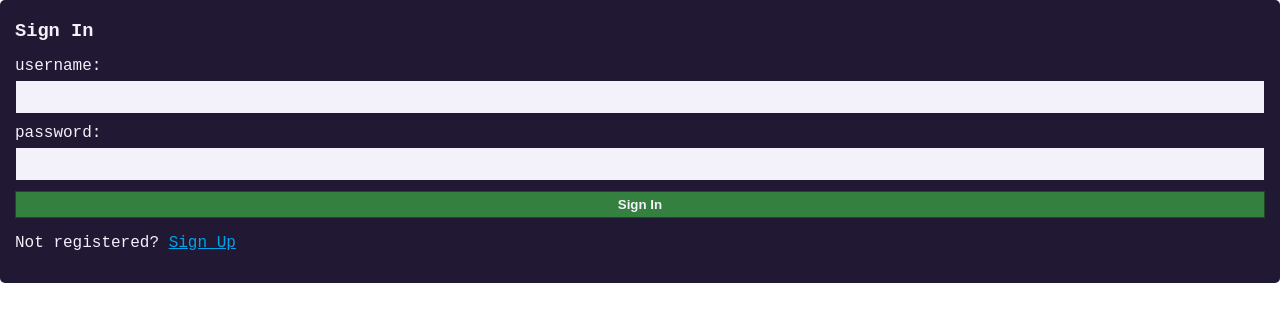
SignInForm › SignInForm renders show error message
This screenshot has width=1280, height=329.
Click the button "Sign In".
click(640, 204)  # box [15, 191, 1265, 218]
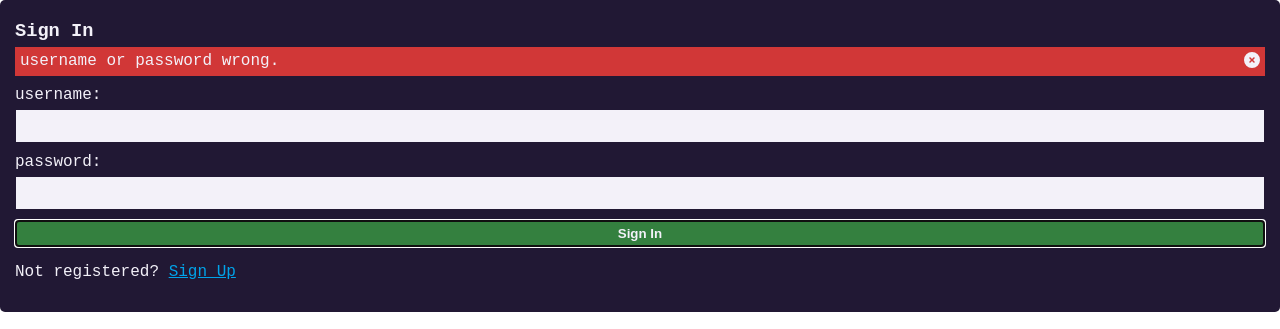
Check: the text "username or password wrong." is shown, box [20, 52, 279, 70]
